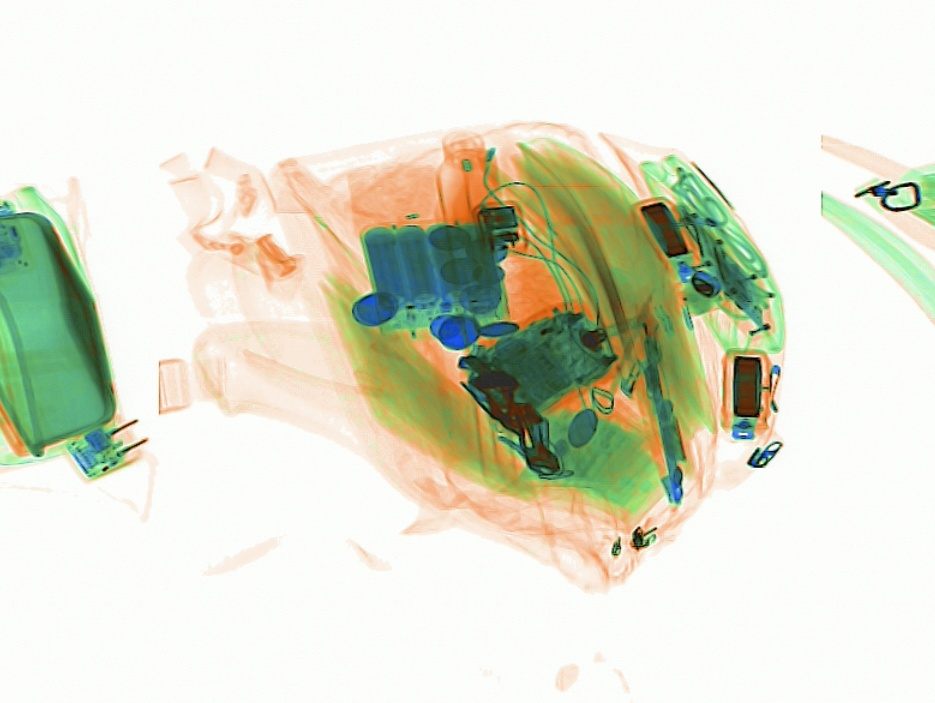powerbank: (357, 218, 506, 338)
